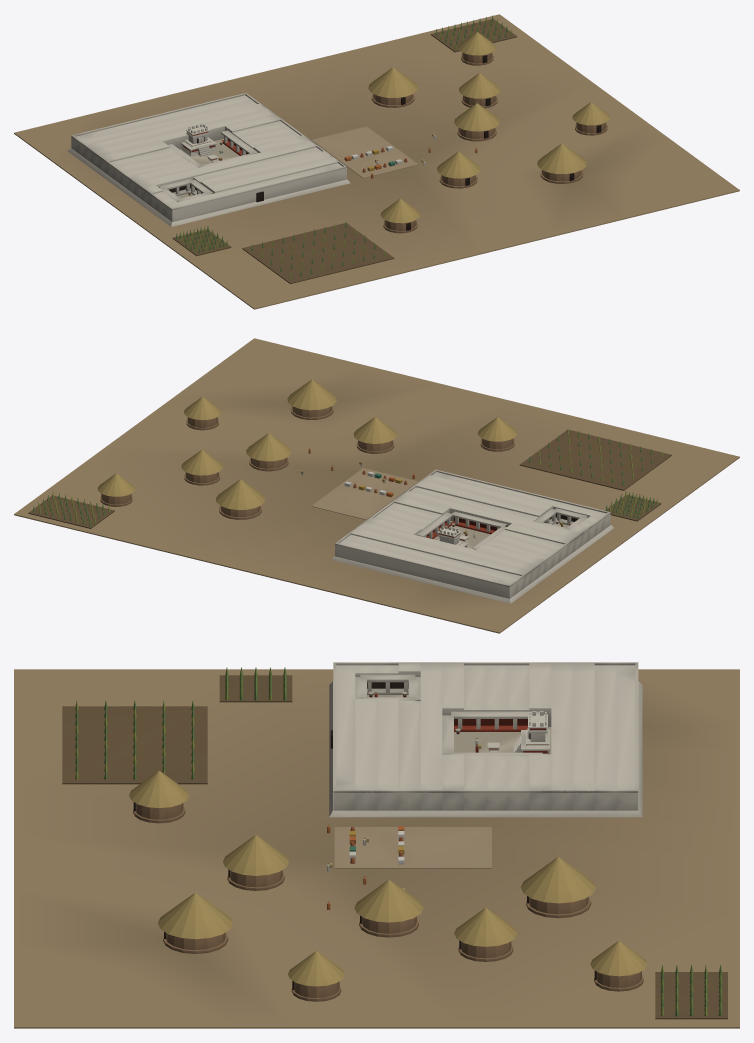
Rendered from merchants-barrio.glb.
The picture shows the model from 3 angles, top to bottom: view 1: azimuth 30°, elevation 25°; view 2: azimuth 150°, elevation 25°; view 3: azimuth 270°, elevation 25°; orthographic projection. The views are drawn at different scales.
Parts seen in each view (by area): view 1: p0_ground, p1_compounds, p2_people; view 2: p0_ground, p1_compounds, p2_people; view 3: p0_ground, p1_compounds, p2_people.
Part boxes in pixels (x1,y1,x2,y2): p0_ground: [14, 14, 739, 309]; p1_compounds: [67, 32, 609, 233]; p2_people: [172, 15, 517, 283]; p0_ground: [14, 338, 739, 633]; p1_compounds: [97, 379, 613, 603]; p2_people: [28, 428, 671, 528]; p0_ground: [14, 669, 739, 1028]; p1_compounds: [129, 662, 647, 1001]; p2_people: [62, 667, 727, 1019].
Bounding box in the file's own units: 140 × 8.9 × 120.
